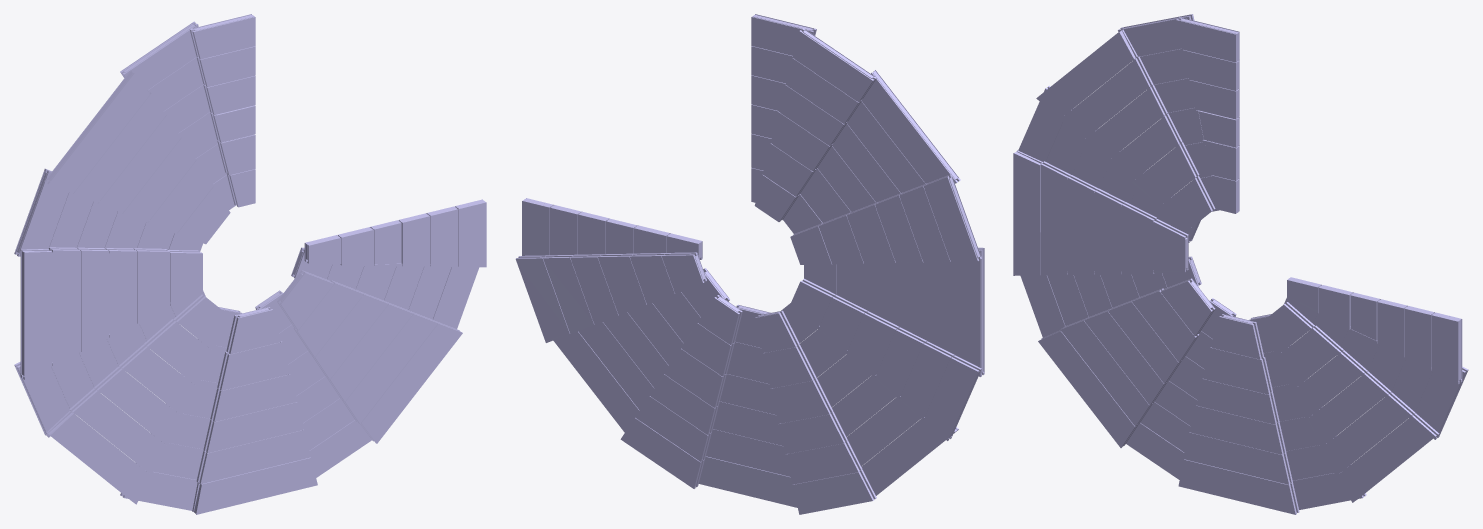
Rendered from Outer-Wheel-SideC-cut3.glb.
3 views of the same model, side by side, from view 1: azimuth 30°, elevation 25°; view 2: azimuth 150°, elevation 25°; view 3: azimuth 330°, elevation 25° (orthographic). The views are drawn at different scales.
Visible parts, largest first — view 1: null; view 2: null; view 3: null.
Part boxes in pixels (x1,y1,x2,y2): null: (14, 14, 486, 514); null: (515, 14, 984, 514); null: (1013, 14, 1468, 514).
Size of the model in its own units: 24.37 by 24.38 by 0.7801.
